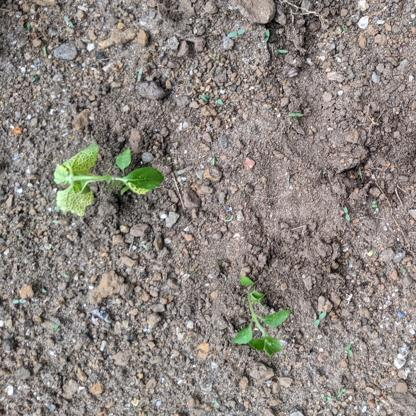weed: (52, 143, 164, 219), (231, 275, 294, 359)
